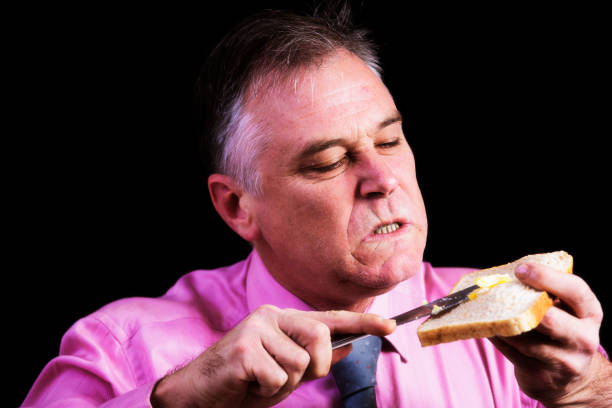knife: (333, 283, 480, 351)
